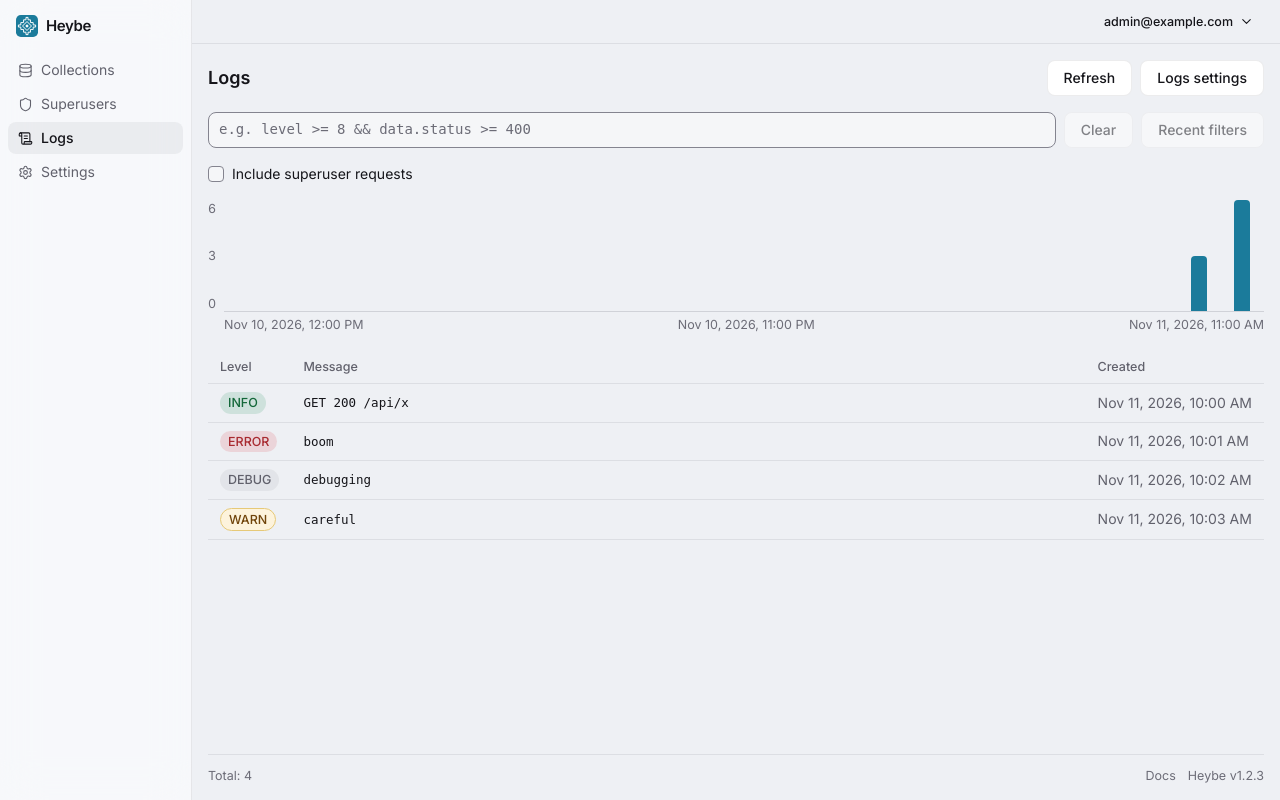
opening a log loads findOne and lists data keys as text
The image size is (1280, 800).
Step 1. Click the button "GET 200 /api/x" → (356, 402), box x1=303 y1=394 x2=1074 y2=412
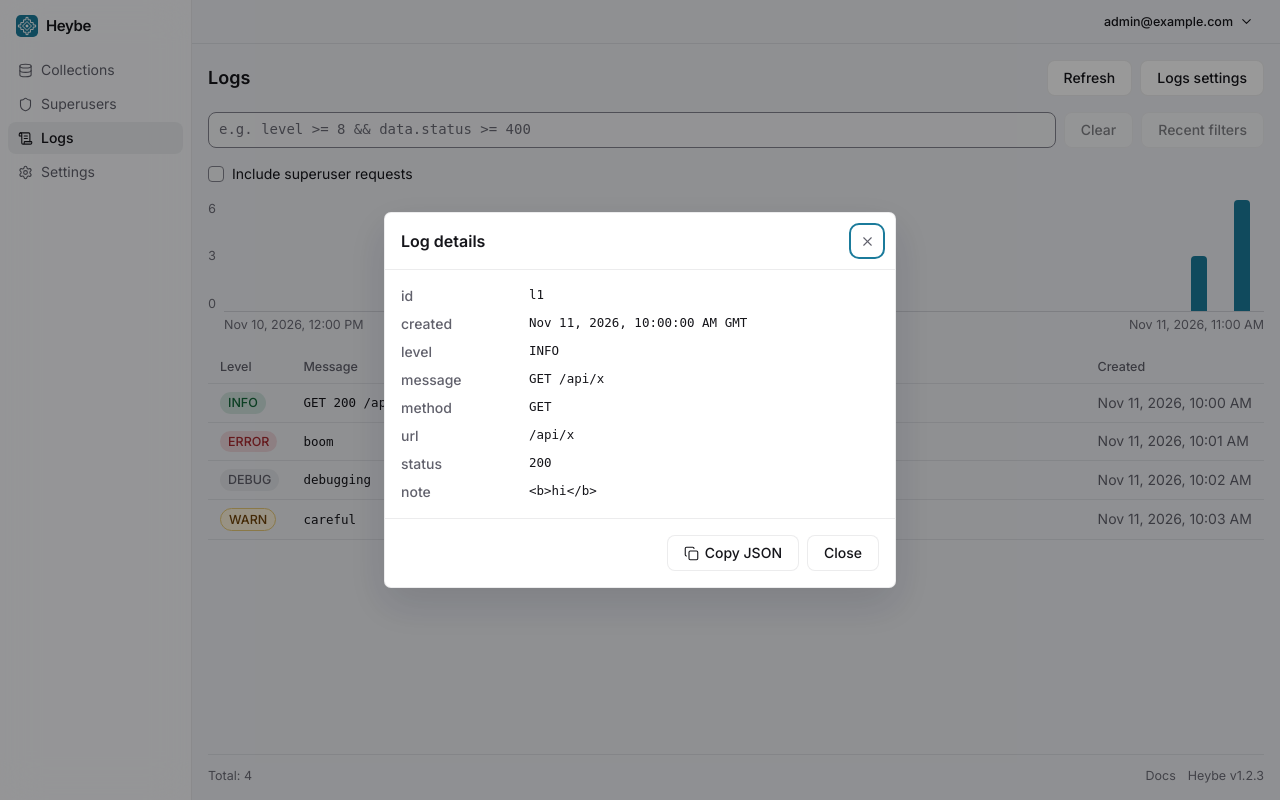
Expected: the text "method" is shown, x1=401 y1=399 x2=452 y2=416
Expected: the text "GET" is shown, x1=529 y1=399 x2=552 y2=414
Expected: the text "<b>hi</b>" is shown, x1=529 y1=483 x2=597 y2=498
